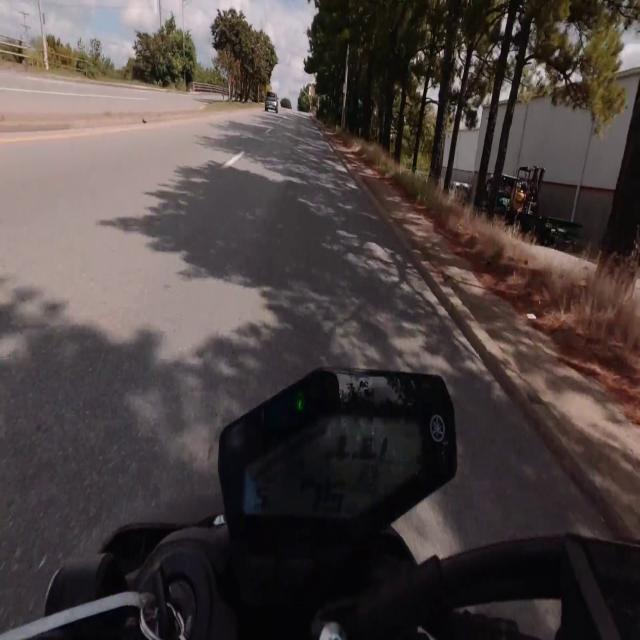car: (265, 92, 278, 113)
motorcycle: (0, 370, 639, 639)
